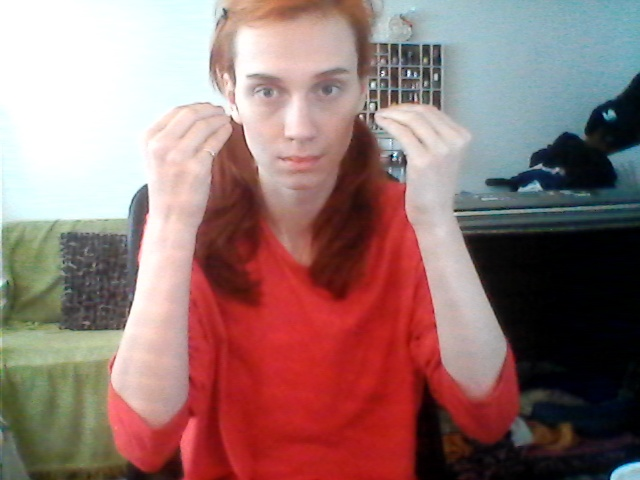ucit: (136, 85, 485, 161)
